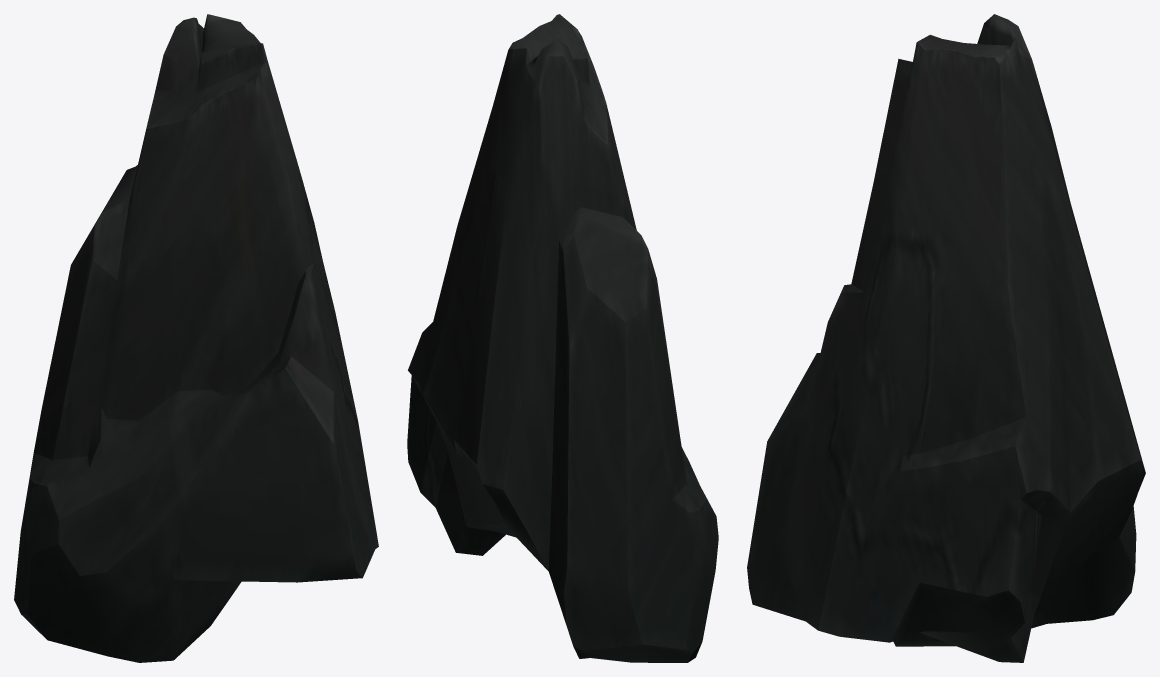
File: basalto.glb
3 views of the same model, side by side, from view 1: azimuth 30°, elevation 25°; view 2: azimuth 150°, elevation 25°; view 3: azimuth 270°, elevation 25° (orthographic). The views are drawn at different scales.
Bounding box in the file's own units: 2.51 × 4.63 × 2.5.
1 material, 1 textured.
